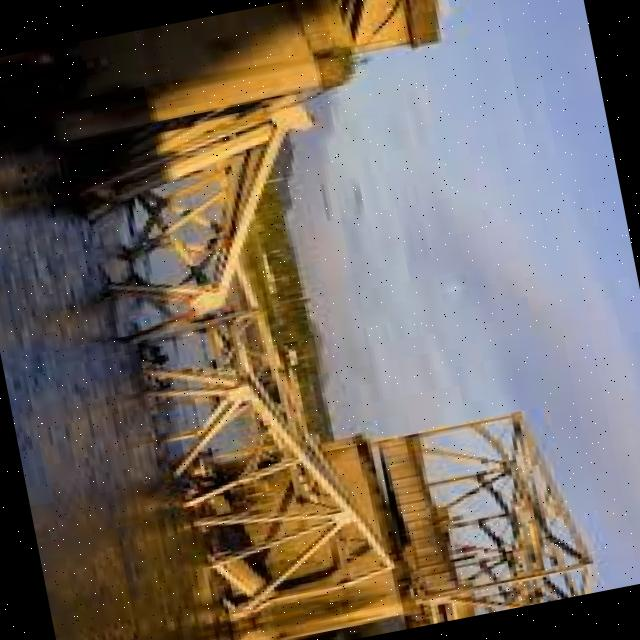bridge collapse: (54, 0, 577, 640)
